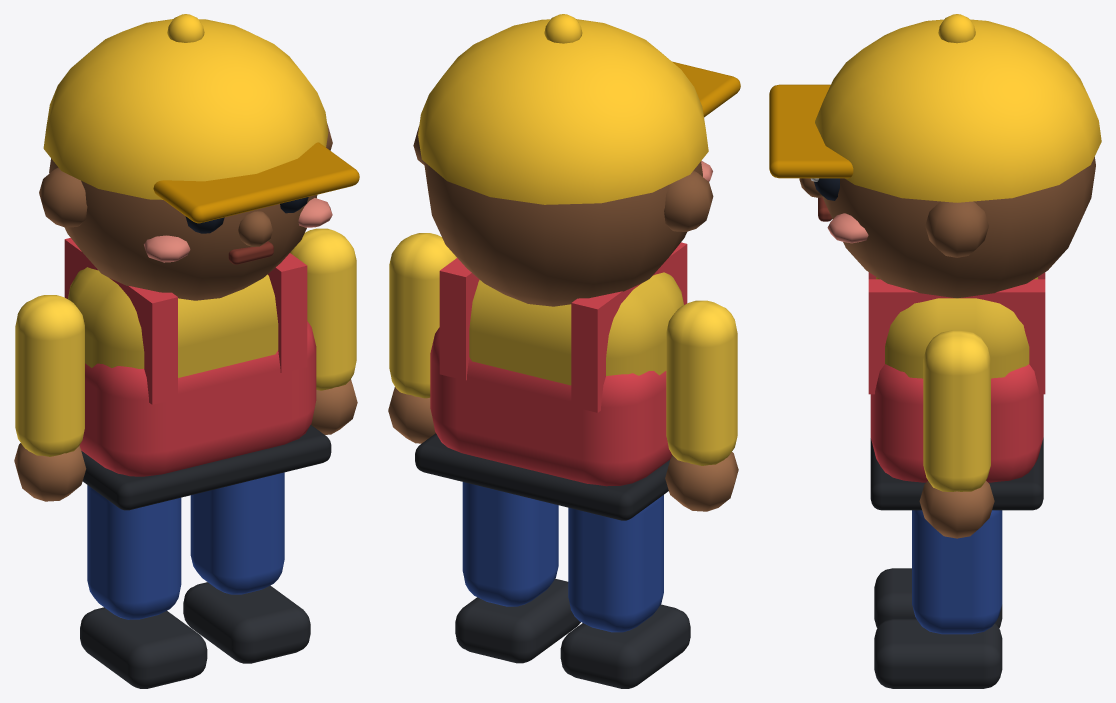
The model's file is person_turbo.glb.
3 renders of one model, left to right at view 1: azimuth 30°, elevation 25°; view 2: azimuth 150°, elevation 25°; view 3: azimuth 270°, elevation 25°, orthographic. The views are drawn at different scales.
Parts seen in each view (by area): view 1: Torso, Hat, LegL, LegR, ArmL, ArmR; view 2: Torso, Hat, LegL, LegR, ArmL, ArmR; view 3: Torso, Hat, LegR, ArmR, LegL.
Part boxes in pixels (x1,y1,x2,y2): Torso: (39, 123, 332, 510); Hat: (43, 14, 359, 223); LegL: (80, 485, 207, 688); LegR: (183, 472, 310, 663); ArmL: (14, 295, 86, 501); ArmR: (290, 228, 357, 434); Torso: (413, 126, 713, 520); Hat: (418, 14, 740, 204); LegL: (560, 495, 690, 688); LegR: (455, 482, 580, 663); ArmL: (665, 300, 738, 511); ArmR: (388, 233, 456, 443); Torso: (799, 157, 1095, 510); Hat: (769, 14, 1101, 202); LegR: (874, 510, 1002, 688); ArmR: (919, 330, 994, 538); LegL: (874, 568, 1002, 628).
Bounding box in the file's own units: 1.04 × 1.86 × 0.885.
